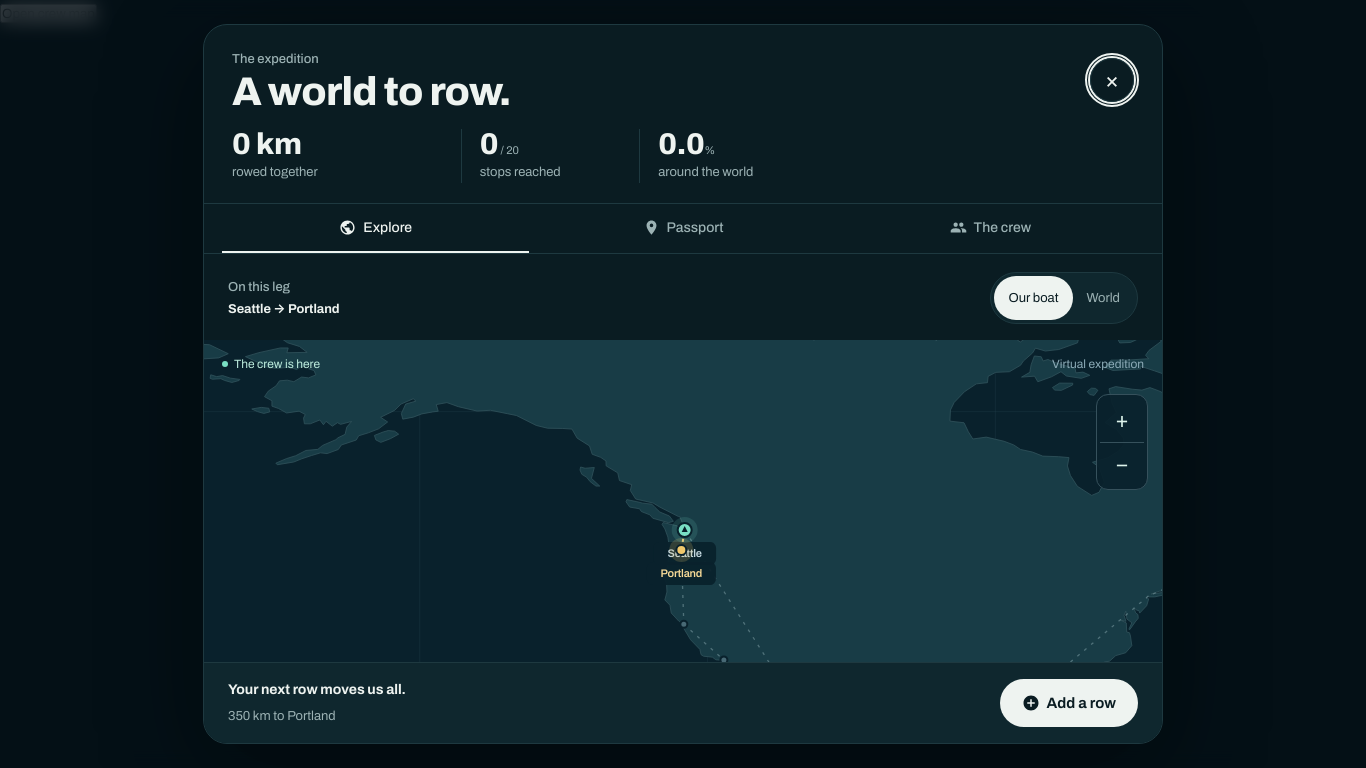
Scenario: an empty derived map never falls back to stale raw users ({})
This screenshot has width=1366, height=768.
What coordinates should you click on to do the following:
click the button "The crew"
I would click on:
 (990, 228)
Its box is [837,204,1144,253].
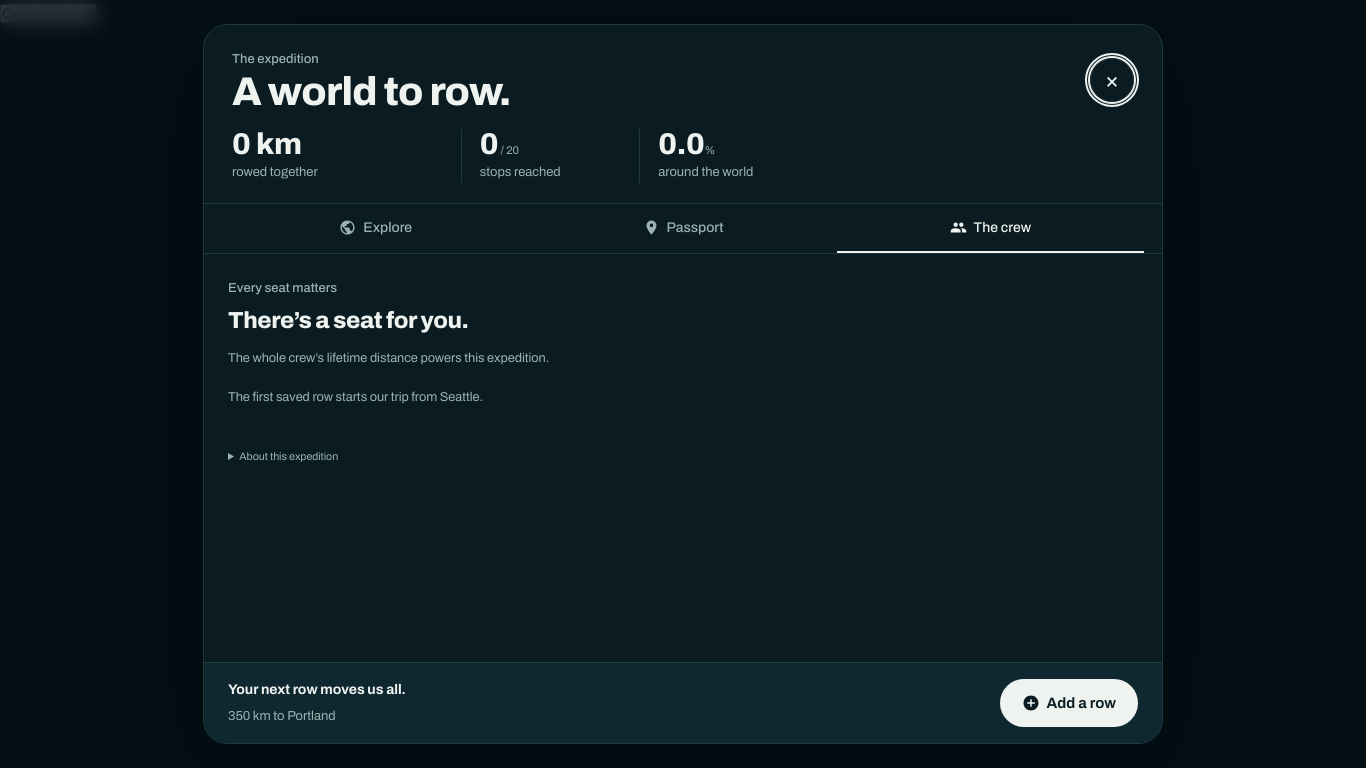
Expected: the text "The first saved row starts our trip from Seattle." is shown, [228,390,483,404]
